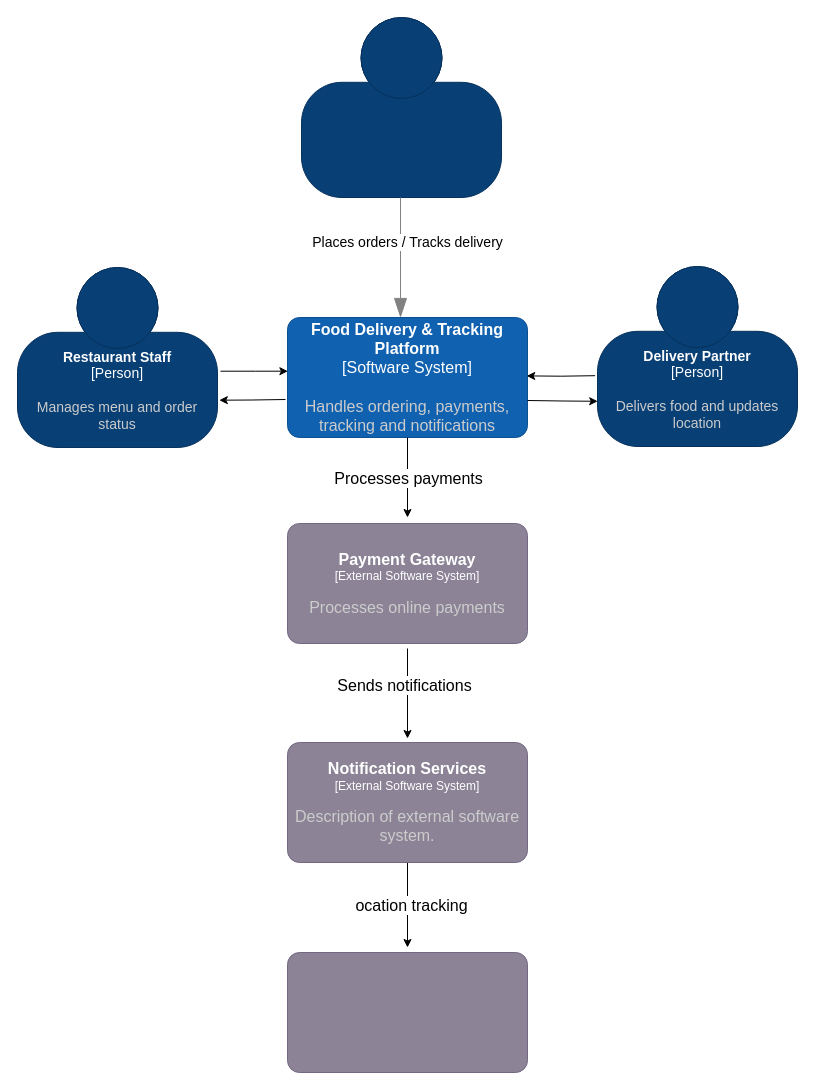
This 815x1090 diagram has some shape labels left out. Each missing label, with the centre of its shape:
Customer [Person] Browses restaurants, places orders, tracks delivery: (x=401, y=107)
Maps / GPS Service [External Software System] Routing and live tracking: (x=407, y=1012)
